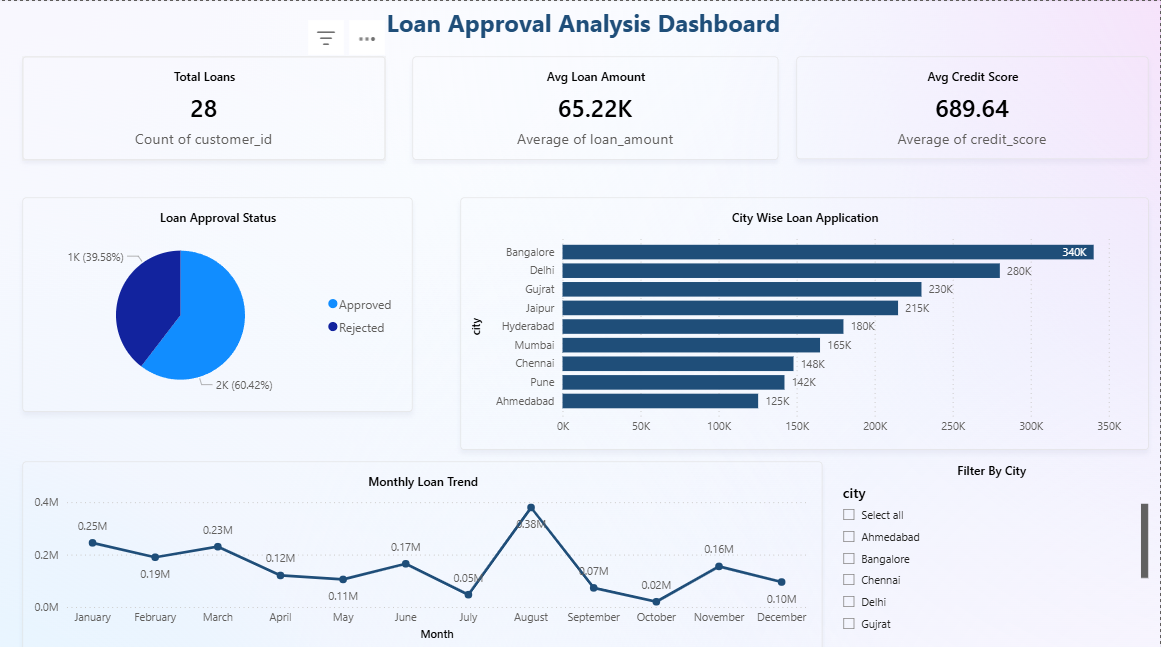

Layout of this report page (visuals, bound fields, positions):
{"tool":"powerbi","page":{"name":"Page 1","canvas":[1280,720],"ordinal":0},"visuals":[{"type":"card","title":"Total Loans","fields":{"Values":["CountNonNull(Loan_Final.customer_id)"]},"box":[24.8,61.3,400.9,114.3],"z":0},{"type":"card","title":"Avg Loan Amount","fields":{"Values":["Avg(Loan_Final.loan_amount)"]},"box":[455.5,61.3,404.2,114.3],"z":1000},{"type":"card","title":"Avg Credit Score","fields":{"Values":["Avg(Loan_Final.credit_score)"]},"box":[880,61.7,388.3,113.3],"z":2000},{"type":"pieChart","title":"Loan Approval Status","fields":{"Category":["Loan_Final.loan_status"],"Y":["Sum(Loan_Final.customer_id)"]},"box":[24.8,217,430.7,236.9],"z":3000},{"type":"clusteredBarChart","title":"City Wise Loan Application","fields":{"Category":["Loan_Final.city"],"Y":["Sum(Loan_Final.loan_amount)"]},"box":[508.3,216.7,760,278.3],"z":4000},{"type":"lineChart","title":"Monthly Loan Trend ","fields":{"Category":["Loan_Final.loan_date.Variation.Date Hierarchy.Month"],"Y":["Sum(Loan_Final.loan_amount)"]},"box":[25,508.3,883.3,211.7],"z":5000},{"type":"slicer","title":"Filter By City","fields":{"Values":["Loan_Final.city"]},"box":[923.3,508.3,345,186.7],"z":6000},{"type":"textbox","box":[381.7,0,526.7,50],"z":7000}]}

Visuals, with their boxes in screenshot pixels (x1, y1, x2, y2), scaled from the page's 1280x720 canvas onto the 1161x647 screenshot:
"Total Loans" card: <bbox>22, 55, 386, 158</bbox>
"Avg Loan Amount" card: <bbox>413, 55, 780, 158</bbox>
"Avg Credit Score" card: <bbox>798, 55, 1150, 157</bbox>
"Loan Approval Status" pieChart: <bbox>22, 195, 413, 408</bbox>
"City Wise Loan Application" clusteredBarChart: <bbox>461, 195, 1150, 445</bbox>
"Monthly Loan Trend " lineChart: <bbox>23, 457, 824, 646</bbox>
"Filter By City" slicer: <bbox>837, 457, 1150, 625</bbox>
textbox: <bbox>346, 0, 824, 45</bbox>
